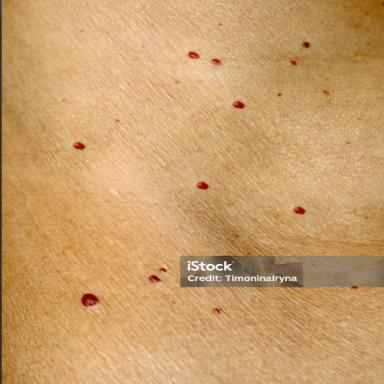Hemangiome: (81, 293, 99, 306), (196, 181, 209, 190), (148, 275, 162, 283), (72, 142, 86, 150), (293, 206, 305, 215), (233, 101, 245, 109), (188, 52, 199, 59), (211, 59, 222, 65), (159, 268, 167, 272), (350, 286, 358, 289)
